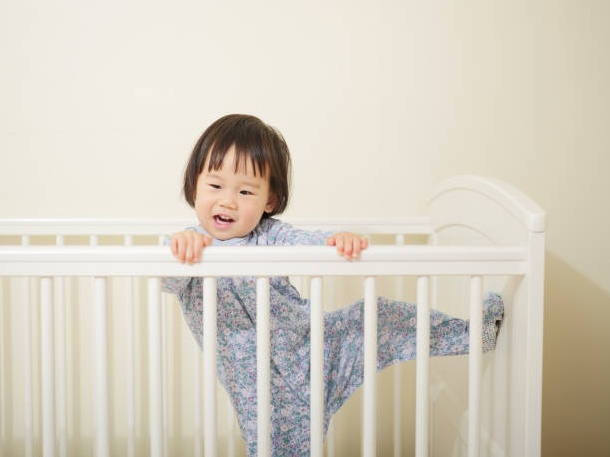baby: (170, 114, 367, 262)
crib: (0, 176, 544, 456)
